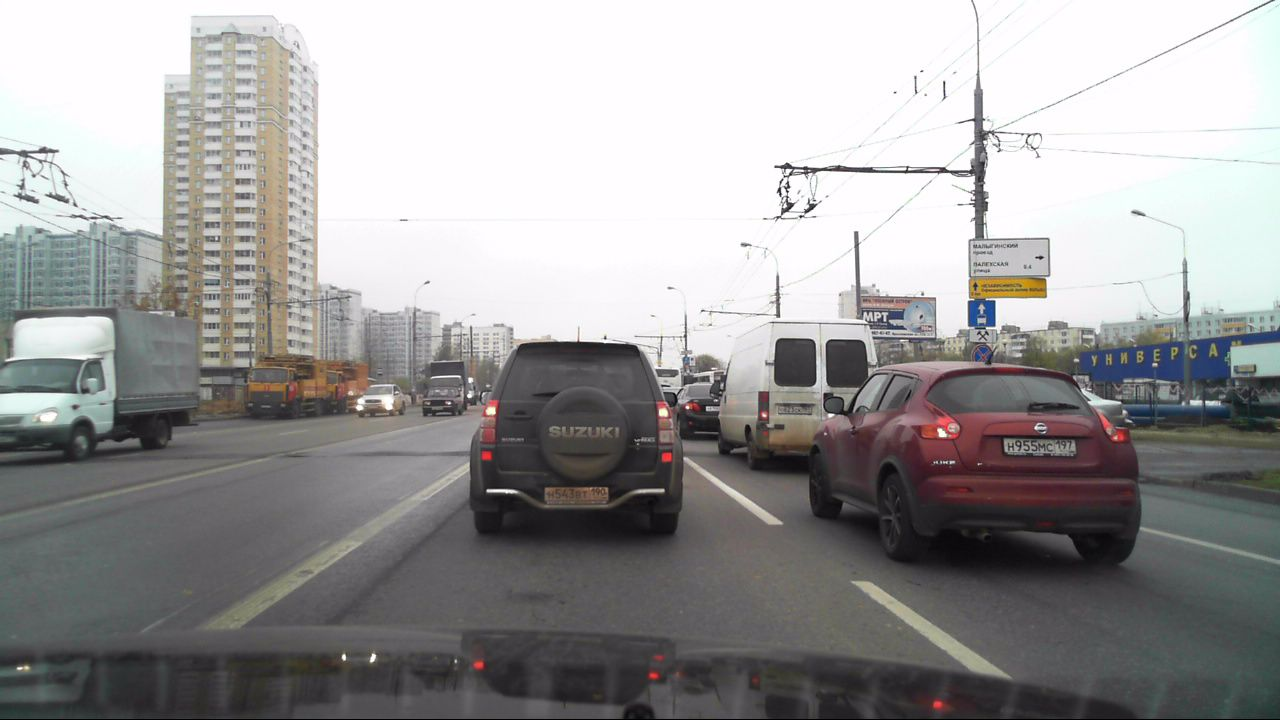No Parking: (971, 344, 992, 364)
